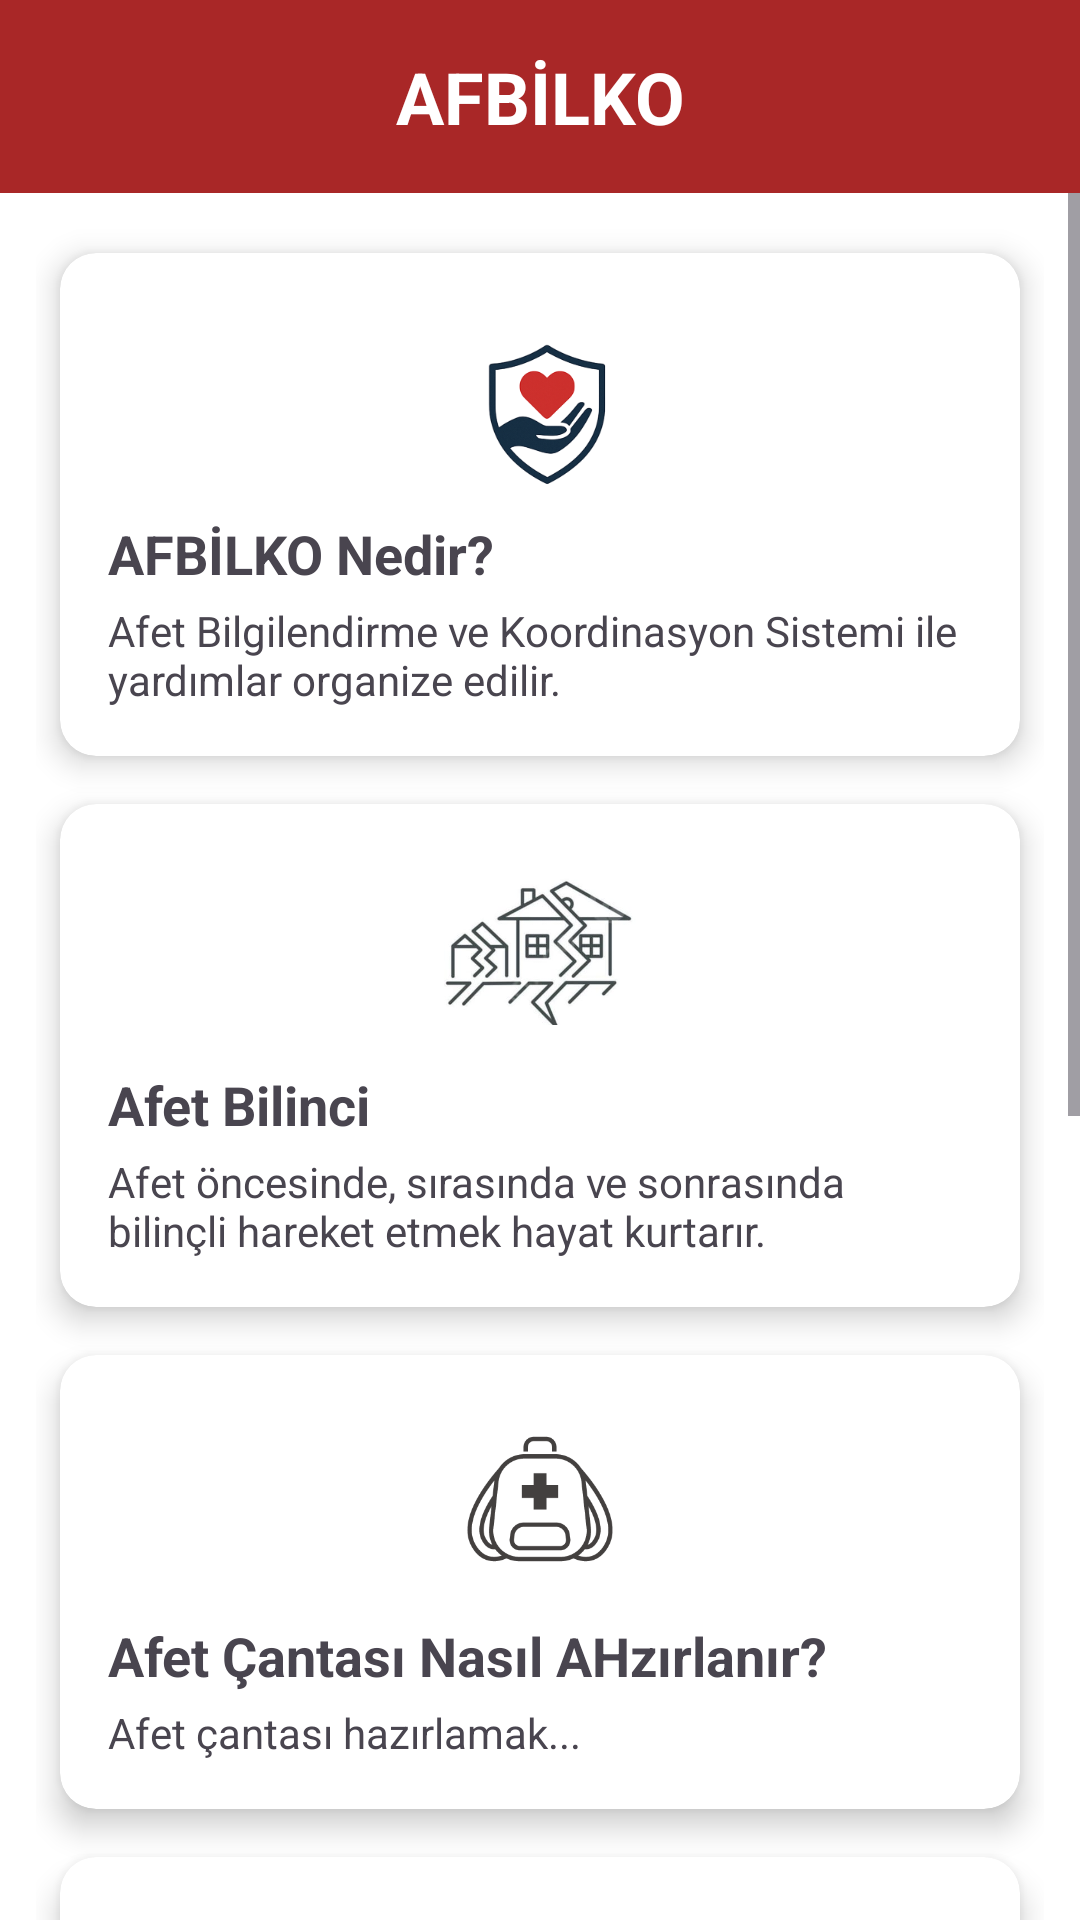

Where icons sit on this 1080×1920 app screen, as (x1, y1, x2, y2):
afet cantasi: (467, 1436, 613, 1562)
